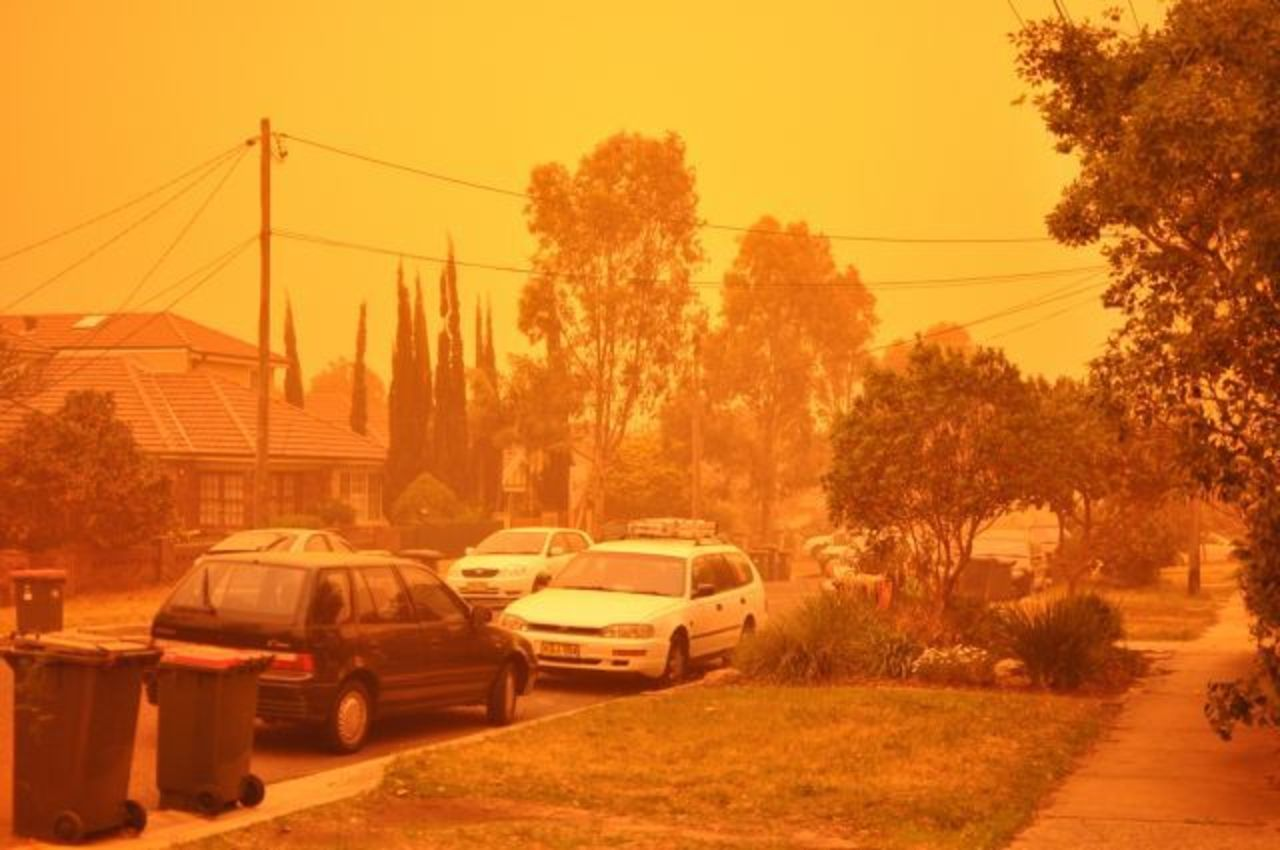car: (152, 536, 532, 756), (500, 533, 763, 689), (445, 526, 599, 615), (190, 520, 376, 560), (809, 520, 858, 573)
